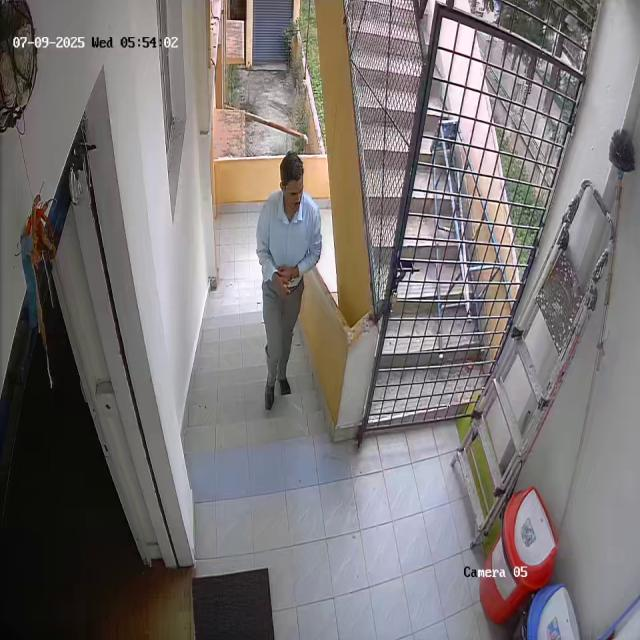person: (250, 150, 322, 409)
